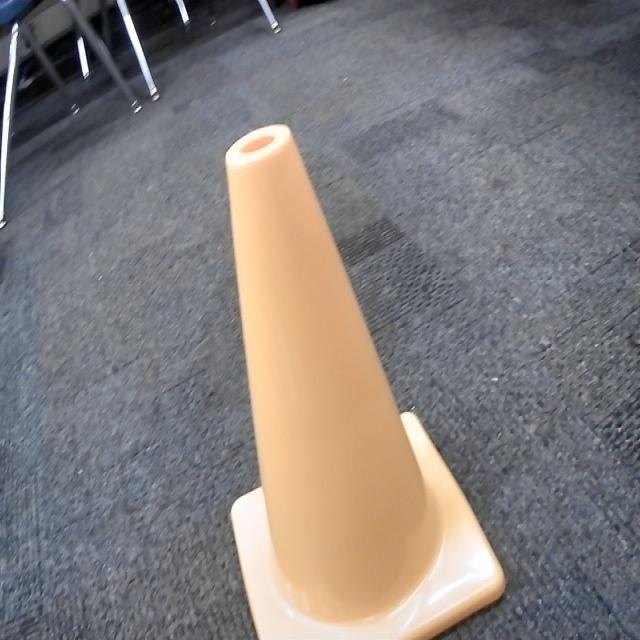cone: (225, 120, 508, 640)
